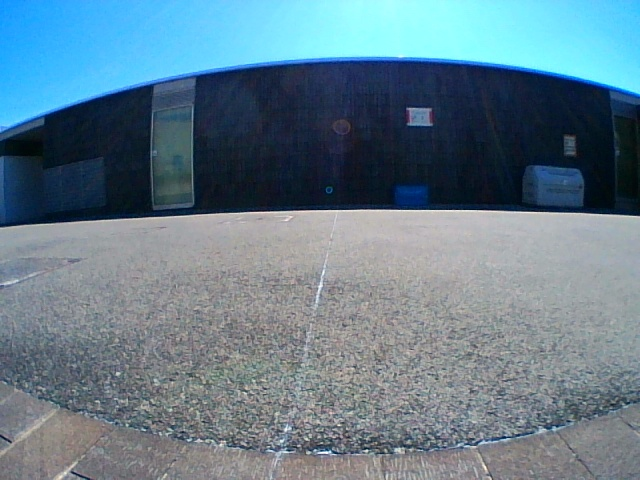blue_box: (394, 185, 426, 207)
